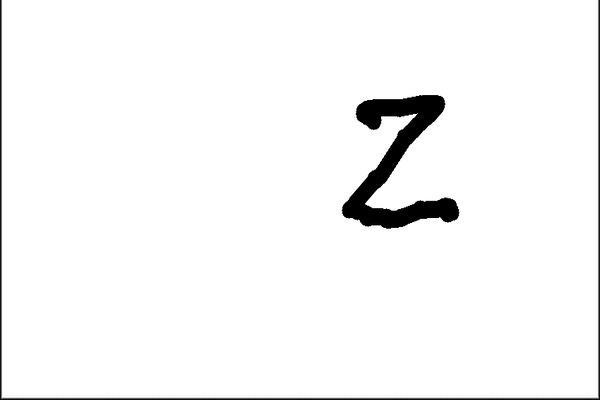Z: (337, 88, 469, 231)
